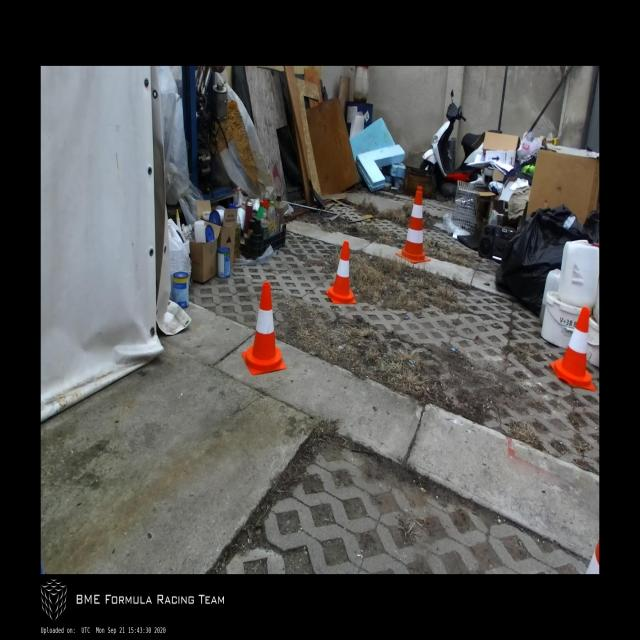large_orange_cone: (396, 186, 430, 263)
orange_cone: (242, 282, 286, 375), (549, 307, 596, 392), (325, 241, 357, 304)
